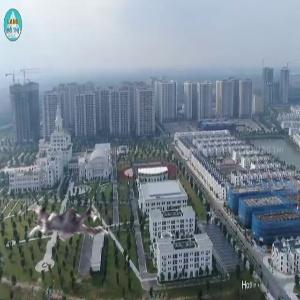drone: (19, 182, 117, 280)
